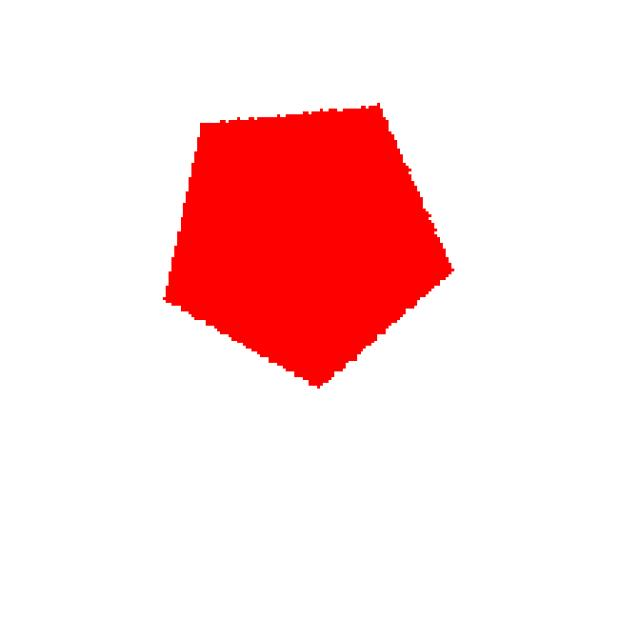Pentagon: (134, 79, 537, 450)
